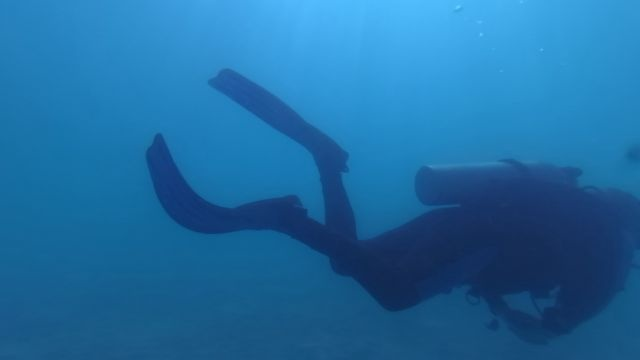Diver: (134, 48, 639, 342)
Hand: (492, 304, 546, 339)
